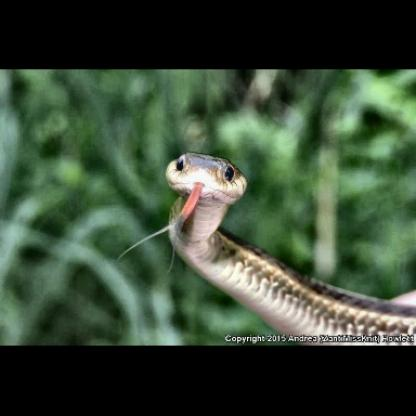Snake: (155, 152, 416, 332)
